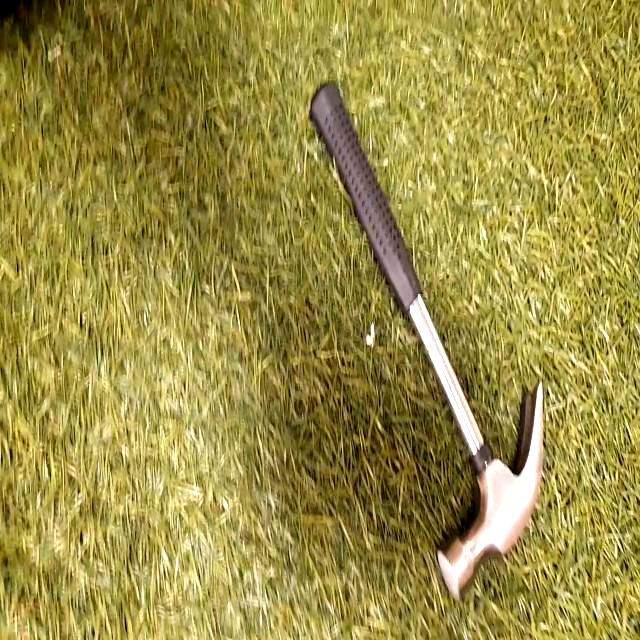hammer: (303, 78, 549, 600)
